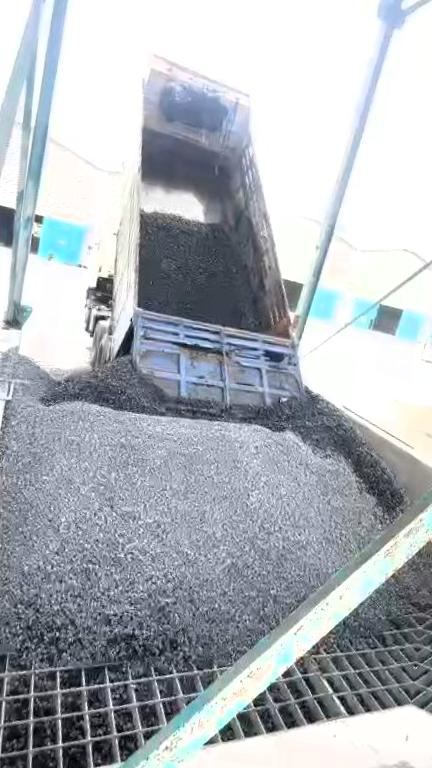gravel: (0, 346, 415, 670), (319, 533, 431, 648)
sand: (357, 396, 432, 469)
